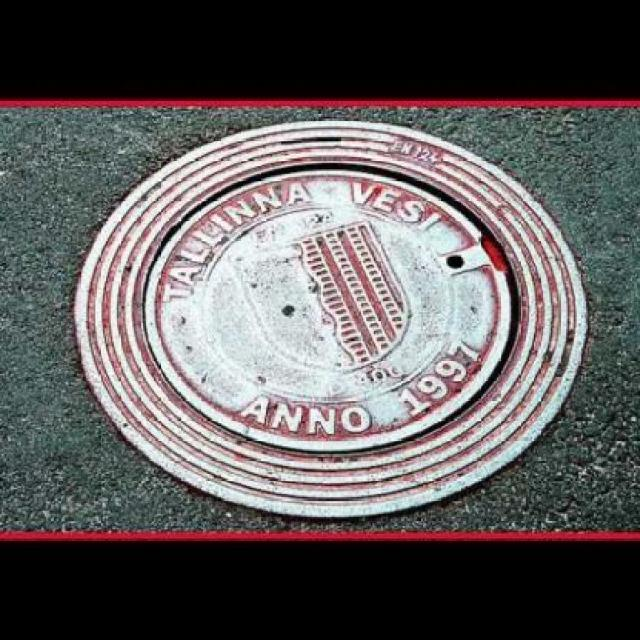Manhole: (66, 116, 594, 529)
